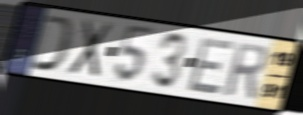3: (152, 30, 190, 90)
5: (112, 23, 158, 87)
D: (27, 12, 77, 75)
E: (185, 36, 237, 96)
R: (222, 40, 270, 101)
X: (65, 18, 115, 80)
